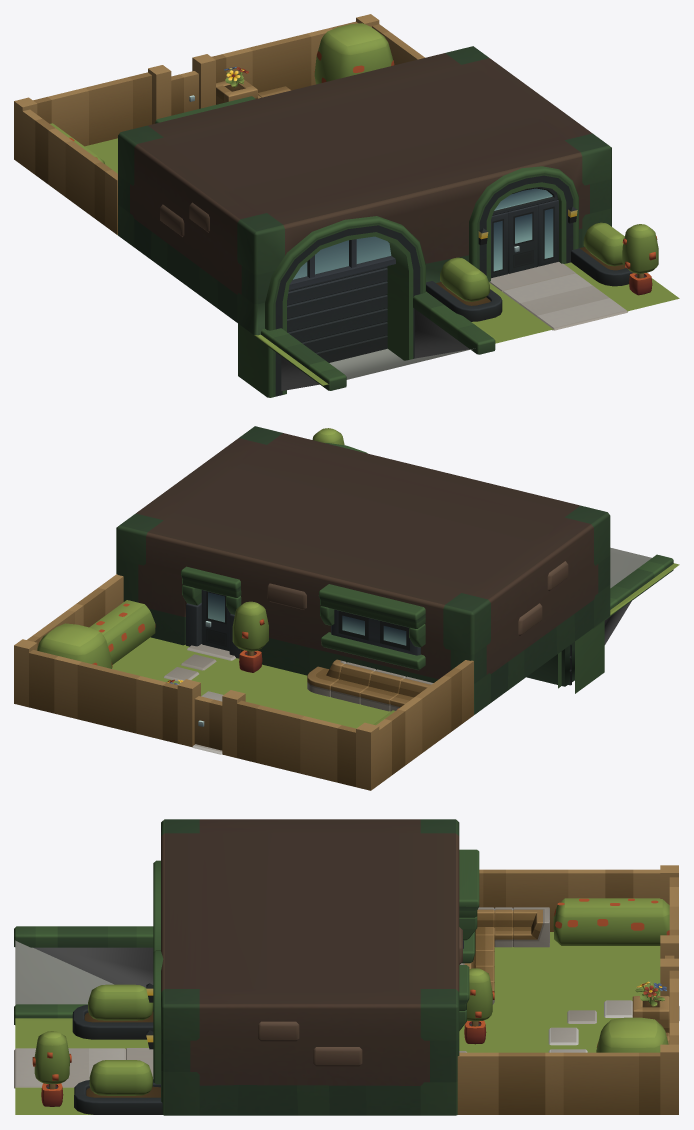
File: garage_and_house_ground_brown.fbx
3 renders of one model, top to bottom at view 1: azimuth 30°, elevation 25°; view 2: azimuth 150°, elevation 25°; view 3: azimuth 270°, elevation 25°, orthographic. The views are drawn at different scales.
Visible parts, largest first — view 1: garage_and_house_ground_brown, door_garage_garage_and_house, door_front_garage_and_house, door_garden_garage_and_house; view 2: garage_and_house_ground_brown, door_back_garage_and_house, door_garden_garage_and_house; view 3: garage_and_house_ground_brown.
Boxes of the visible parts, box(x1,y1,x2,y2) form: garage_and_house_ground_brown: box(14, 14, 679, 397); door_garage_garage_and_house: box(287, 266, 387, 362); door_front_garage_and_house: box(508, 205, 537, 273); door_garden_garage_and_house: box(171, 71, 198, 115); garage_and_house_ground_brown: box(14, 426, 679, 790); door_back_garage_and_house: box(201, 590, 230, 651); door_garden_garage_and_house: box(194, 696, 222, 750); garage_and_house_ground_brown: box(14, 819, 679, 1115).
Bounding box in the file's own units: 1223 × 533 × 1806.
